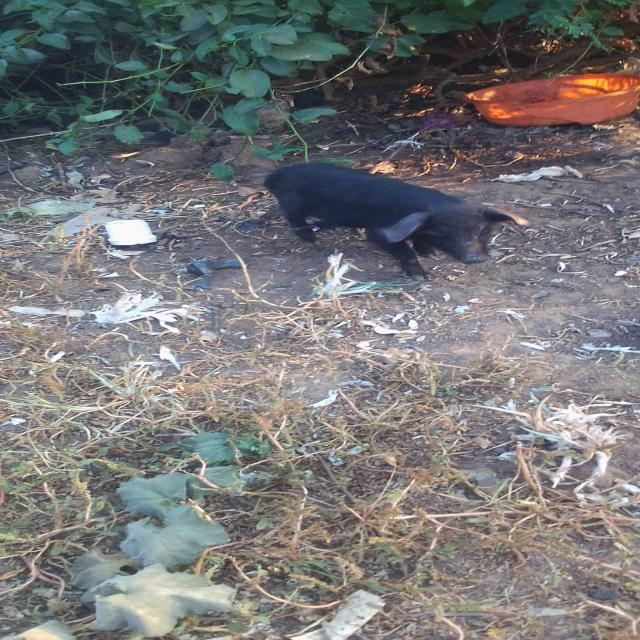pig: (239, 152, 586, 295)
